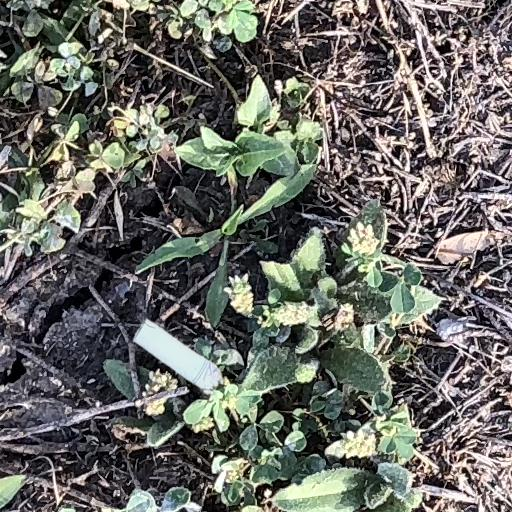smoke: (134, 320, 223, 394)
